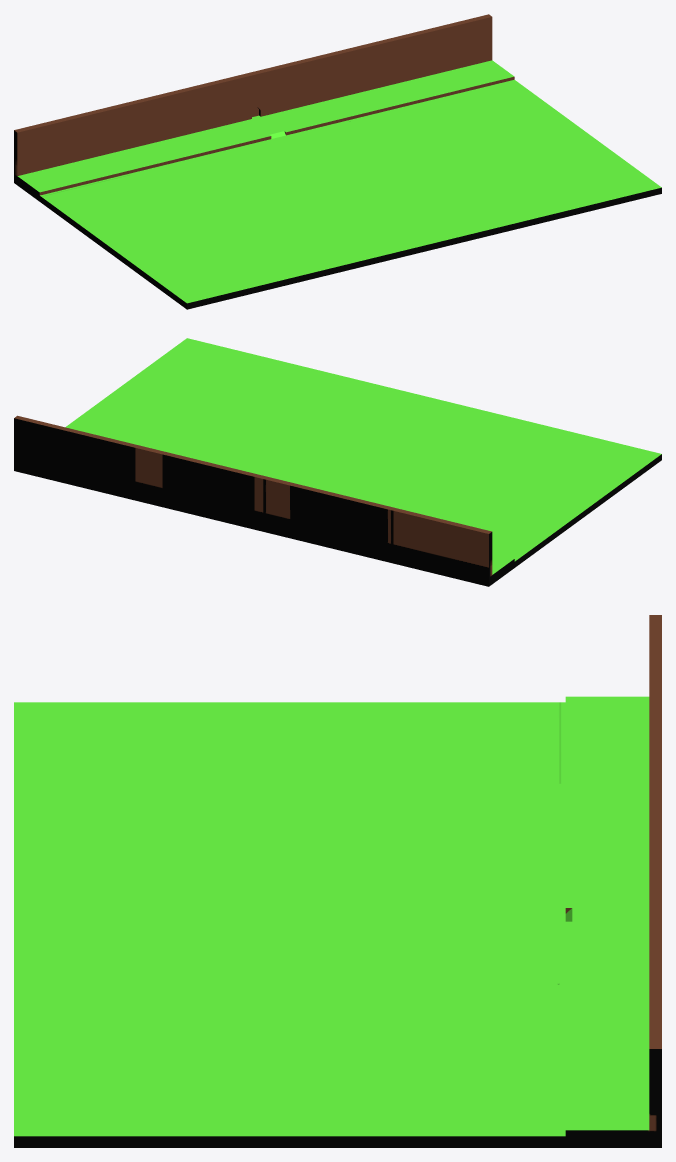
Rendered from overworld.glb.
The picture shows the model from 3 angles, top to bottom: view 1: azimuth 30°, elevation 25°; view 2: azimuth 150°, elevation 25°; view 3: azimuth 270°, elevation 25°; orthographic projection. The views are drawn at different scales.
Visible parts, largest first — view 1: Cube; view 2: Cube; view 3: Cube.
Part boxes in pixels (x1,y1,x2,y2): Cube: (14,14,661,309); Cube: (14,338,661,586); Cube: (14,615,661,1147).
Bounding box in the file's own units: 160 × 17 × 101.
Materials: 1 (1 with a texture image).
